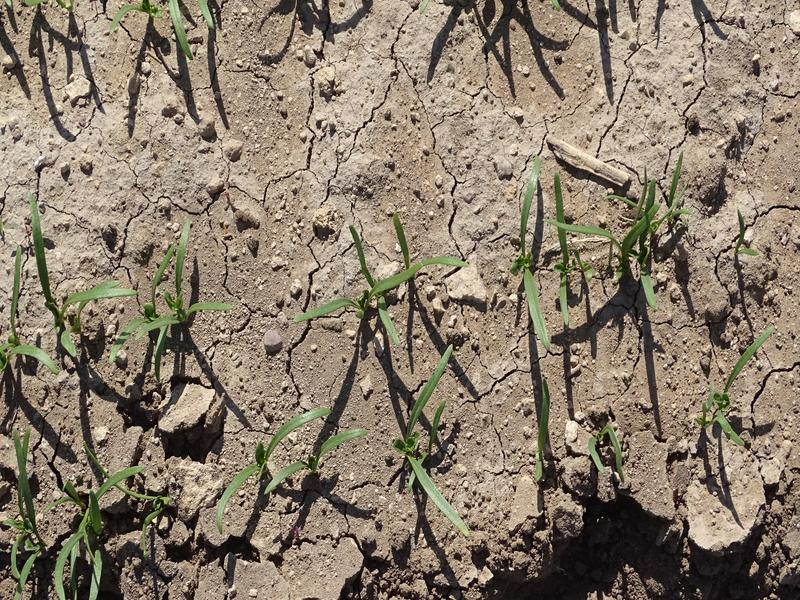Espinaca: (515, 153, 699, 354), (1, 222, 224, 382), (1, 453, 164, 594), (295, 222, 470, 339), (217, 401, 370, 529), (397, 345, 473, 535), (698, 327, 776, 449), (523, 383, 565, 469), (583, 425, 624, 479)
